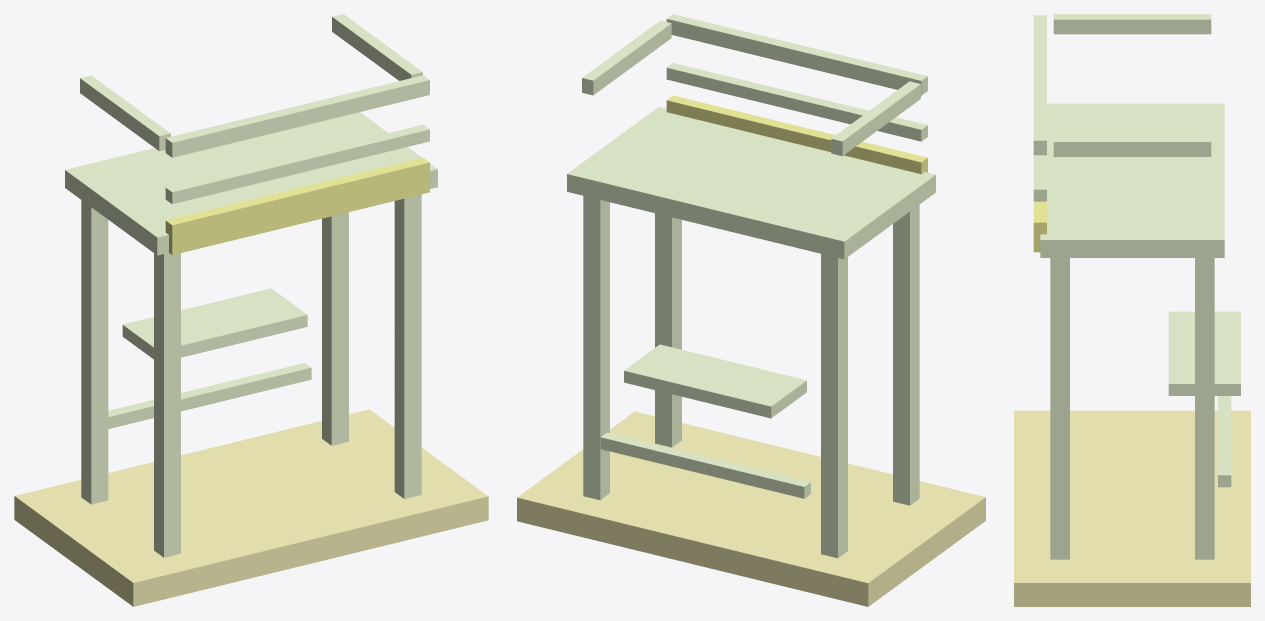
The model's file is furniture_signal_cantilever_service_platform.glb.
3 views of the same model, side by side, from view 1: azimuth 30°, elevation 25°; view 2: azimuth 150°, elevation 25°; view 3: azimuth 270°, elevation 25° (orthographic).
Visible parts, largest first — view 1: base_pad, deck, toe_board, post_front_right, post_back_left, post_front_left, access_step, post_back_right, rail_front, mid_front, kick_plate, rail_left (+1 smaller); view 2: base_pad, deck, post_back_left, post_back_right, post_front_left, access_step, rail_front, post_front_right, toe_board, mid_front, kick_plate, rail_left (+1 smaller); view 3: base_pad, deck, post_front_right, post_back_right, access_step, rail_right, rail_left, rail_front, kick_plate, mid_front, toe_board.
Part boxes in pixels (x1=…): base_pad: x1=14, y1=409, x2=488, y2=606; deck: x1=65, y1=112, x2=437, y2=255; toe_board: x1=165, y1=157, x2=429, y2=255; post_front_right: x1=394, y1=194, x2=421, y2=498; post_back_left: x1=81, y1=200, x2=108, y2=504; post_front_left: x1=154, y1=253, x2=180, y2=557; access_step: x1=122, y1=288, x2=307, y2=359; post_back_right: x1=322, y1=212, x2=348, y2=445; rail_front: x1=165, y1=75, x2=429, y2=157; mid_front: x1=165, y1=124, x2=429, y2=204; kick_plate: x1=108, y1=363, x2=311, y2=428; rail_left: x1=80, y1=75, x2=170, y2=151; base_pad: x1=517, y1=411, x2=985, y2=606; deck: x1=567, y1=107, x2=935, y2=259; post_back_left: x1=821, y1=254, x2=847, y2=558; post_back_right: x1=583, y1=196, x2=609, y2=500; post_front_left: x1=893, y1=204, x2=919, y2=505; access_step: x1=624, y1=344, x2=806, y2=418; rail_front: x1=666, y1=14, x2=927, y2=95; post_front_right: x1=655, y1=213, x2=681, y2=447; toe_board: x1=666, y1=95, x2=927, y2=174; mid_front: x1=666, y1=63, x2=927, y2=141; kick_plate: x1=600, y1=432, x2=810, y2=498; rail_left: x1=831, y1=81, x2=920, y2=156; base_pad: x1=1014, y1=410, x2=1250, y2=606; deck: x1=1040, y1=103, x2=1224, y2=257; post_front_right: x1=1050, y1=258, x2=1069, y2=559; post_back_right: x1=1195, y1=258, x2=1214, y2=559; access_step: x1=1168, y1=311, x2=1240, y2=395; rail_right: x1=1053, y1=136, x2=1211, y2=156; rail_left: x1=1053, y1=14, x2=1211, y2=34; rail_front: x1=1033, y1=15, x2=1046, y2=155; kick_plate: x1=1218, y1=396, x2=1231, y2=487; mid_front: x1=1033, y1=155, x2=1046, y2=201; toe_board: x1=1033, y1=201, x2=1046, y2=252.
Bounding box in the file's own units: 1.24 × 1.49 × 0.72.
